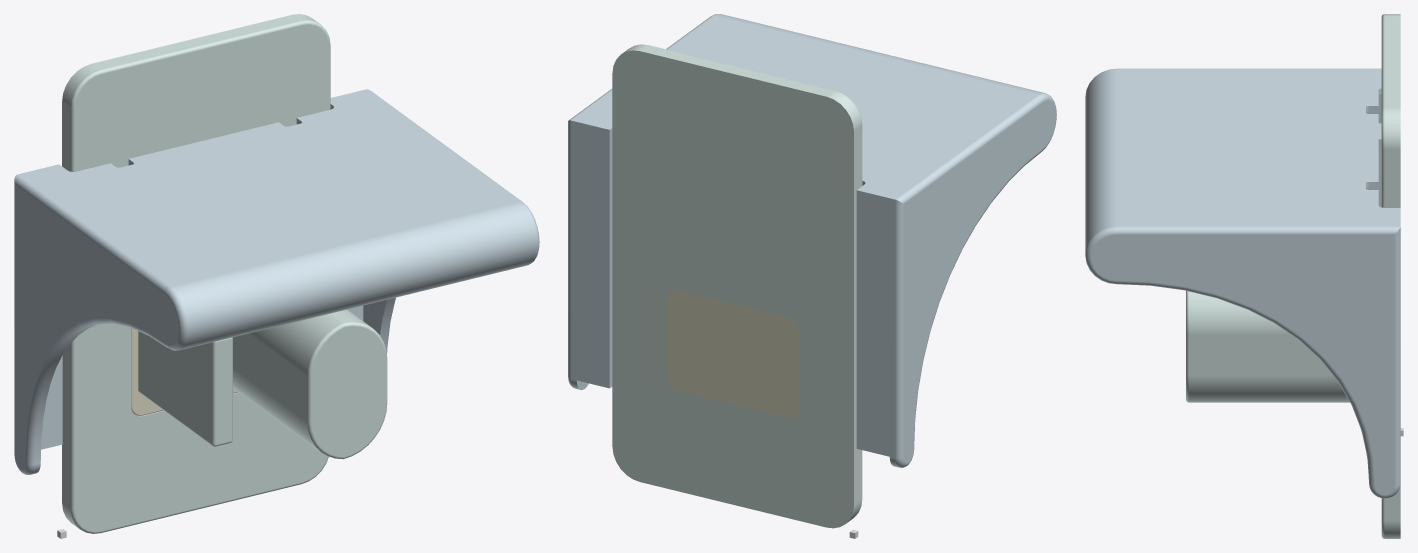
The model's file is toothbrush_shelf.glb.
3 renders of one model, left to right at view 1: azimuth 30°, elevation 25°; view 2: azimuth 150°, elevation 25°; view 3: azimuth 270°, elevation 25°, orthographic. The views are drawn at different scales.
Parts seen in each view (by area): view 1: Toothbrush_Shelf_v5; view 2: Toothbrush_Shelf_v5; view 3: Toothbrush_Shelf_v5.
Boxes of the visible parts, left/top/right/bottom form: Toothbrush_Shelf_v5: left=14, top=14, right=539, bottom=533; Toothbrush_Shelf_v5: left=568, top=14, right=1056, bottom=528; Toothbrush_Shelf_v5: left=1085, top=14, right=1400, bottom=538.
Bounding box in the file's own units: 122 × 151 × 101.
